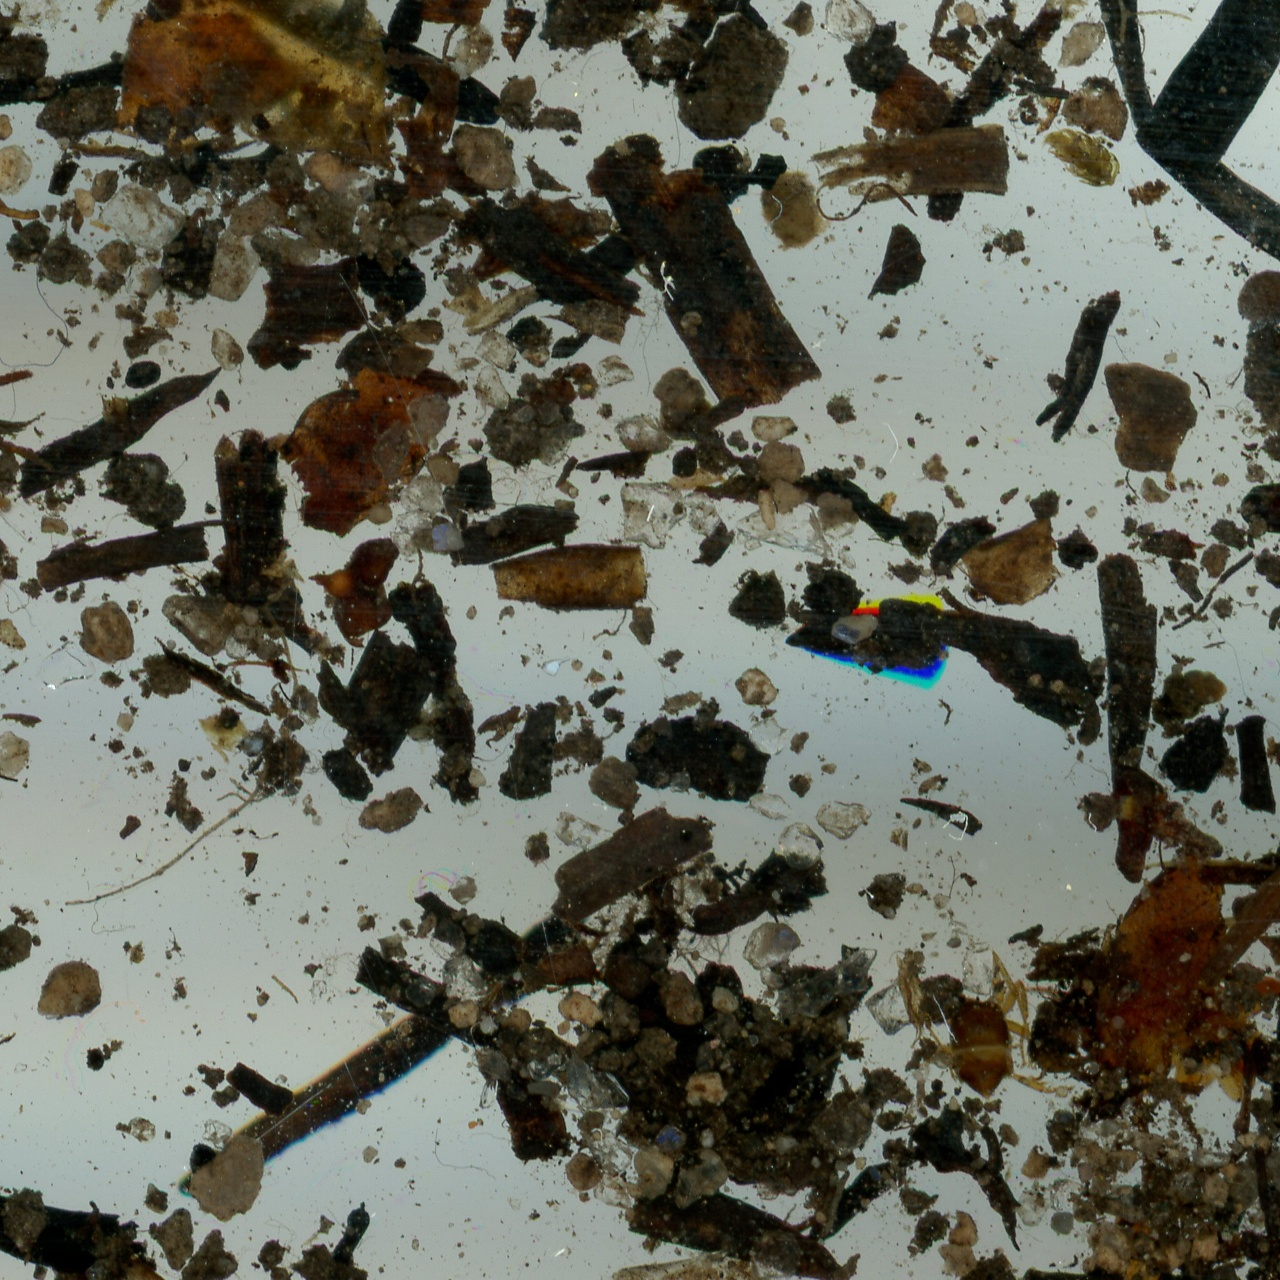arthropod: (924, 943, 1057, 1106), (955, 868, 979, 898)
